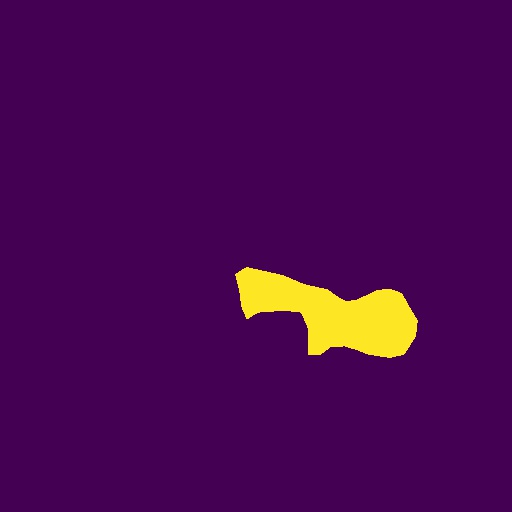Gliomia_tumour: (235, 267, 418, 358)
